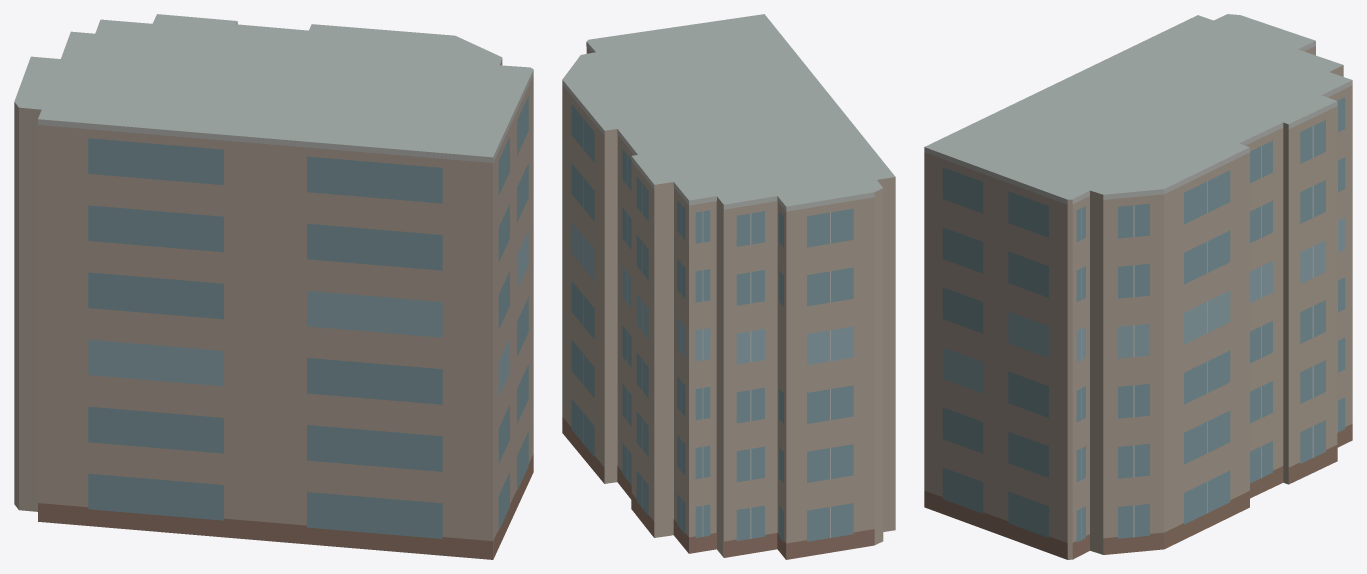
Rendered from survey-upis-32756490.glb.
3 views of the same model, side by side, from view 1: azimuth 30°, elevation 25°; view 2: azimuth 150°, elevation 25°; view 3: azimuth 270°, elevation 25° (orthographic). The views are drawn at different scales.
Visible parts, largest first — view 1: survey-upis-32756490.tmp; view 2: survey-upis-32756490.tmp; view 3: survey-upis-32756490.tmp.
Part boxes in pixels (x1,y1,x2,y2): survey-upis-32756490.tmp: (14,14,533,559); survey-upis-32756490.tmp: (562,14,895,559); survey-upis-32756490.tmp: (924,14,1352,559).
Bounding box in the file's own units: 19.02 × 17.2 × 18.55.
